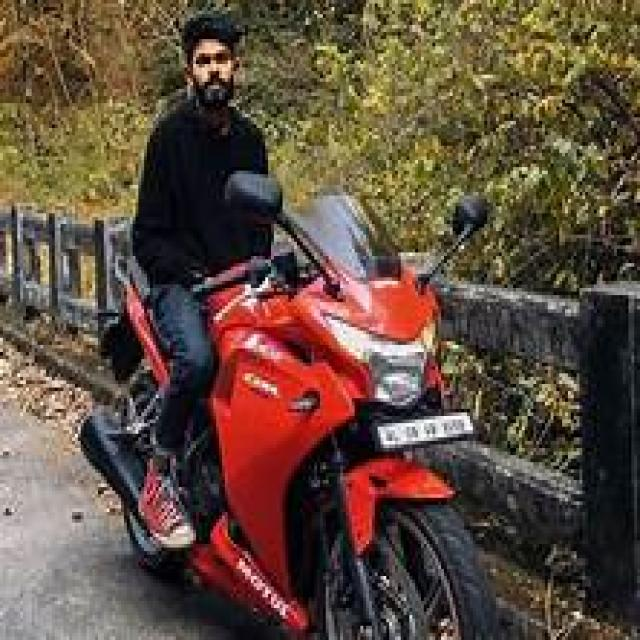Two Wheeler: (80, 193, 500, 637)
